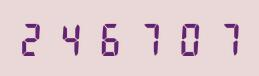four: (54, 20, 90, 56)
seven: (129, 20, 165, 56), (203, 20, 239, 56)
six: (92, 20, 128, 56)
two: (17, 20, 53, 56)
zero: (166, 20, 202, 56)
